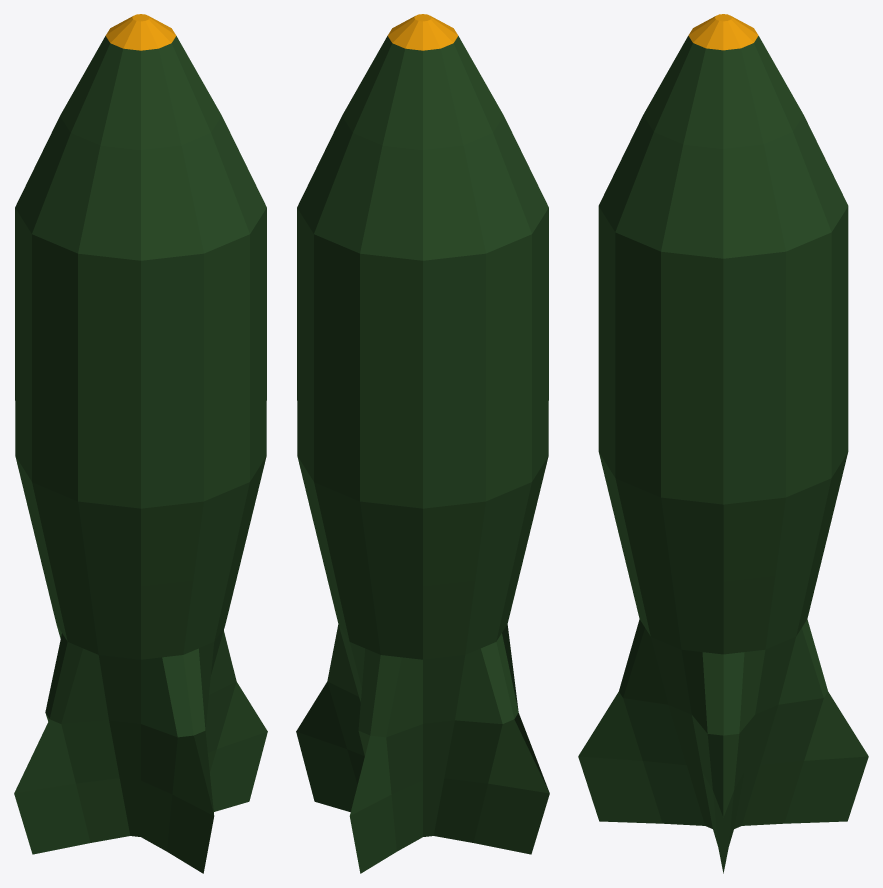
The model's file is Boom.fbx.
The picture shows the model from 3 angles, left to right: view 1: azimuth 30°, elevation 25°; view 2: azimuth 150°, elevation 25°; view 3: azimuth 270°, elevation 25°; orthographic projection.
Parts seen in each view (by area): view 1: Cylinder; view 2: Cylinder; view 3: Cylinder.
Part boxes in pixels (<box>): Cylinder: <box>14,14,267,873</box>; Cylinder: <box>296,14,549,873</box>; Cylinder: <box>578,14,868,873</box>.
Size of the model in its own units: 212 by 645 by 212.
